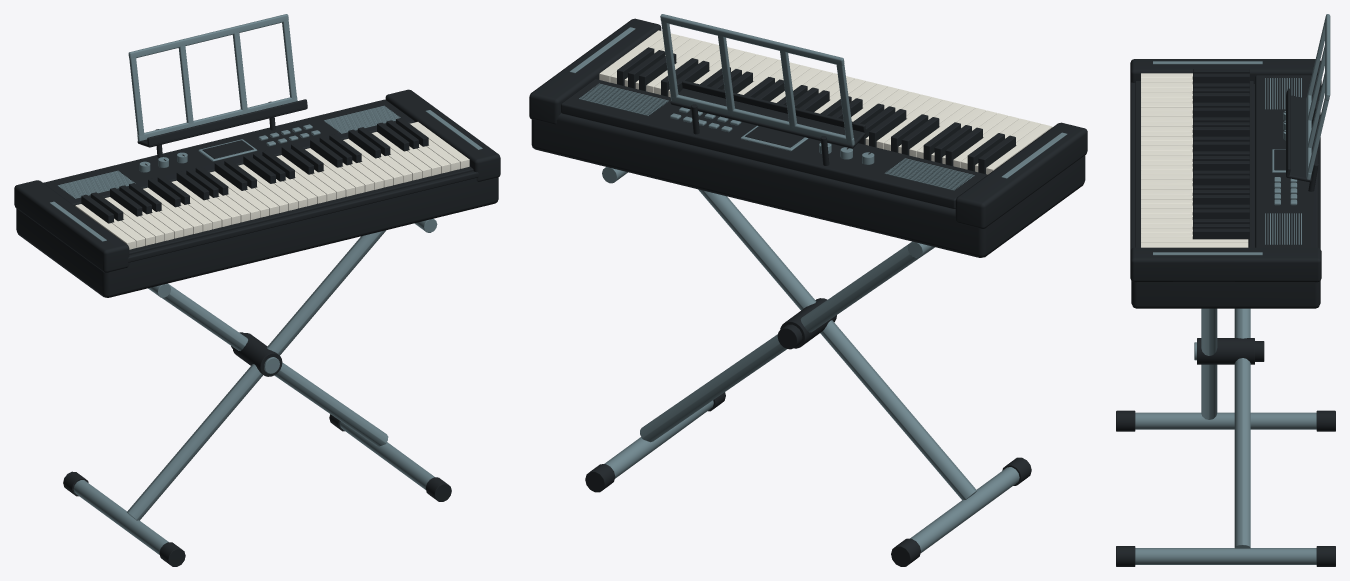
The model's file is electronic-keyboard.glb.
The picture shows the model from 3 angles, left to right: view 1: azimuth 30°, elevation 25°; view 2: azimuth 150°, elevation 25°; view 3: azimuth 270°, elevation 25°; orthographic projection. The views are drawn at different scales.
Parts seen in each view (by area): view 1: MESH_Graphite, MESH_Satin_blue_grey_metal, MESH_Ivory_keys; view 2: MESH_Graphite, MESH_Satin_blue_grey_metal, MESH_Ivory_keys; view 3: MESH_Graphite, MESH_Satin_blue_grey_metal, MESH_Ivory_keys.
Boxes of the visible parts, <box> form: MESH_Graphite: <box>14,89,500,566</box>; MESH_Satin_blue_grey_metal: <box>50,14,482,554</box>; MESH_Ivory_keys: <box>75,122,469,249</box>; MESH_Graphite: <box>529,18,1087,566</box>; MESH_Satin_blue_grey_metal: <box>569,14,1067,552</box>; MESH_Ivory_keys: <box>599,30,1052,174</box>; MESH_Graphite: <box>1116,59,1335,566</box>; MESH_Satin_blue_grey_metal: <box>1135,14,1330,564</box>; MESH_Ivory_keys: <box>1141,73,1248,247</box>.
Size of the model in its own units: 1 by 1.03 by 0.46.
